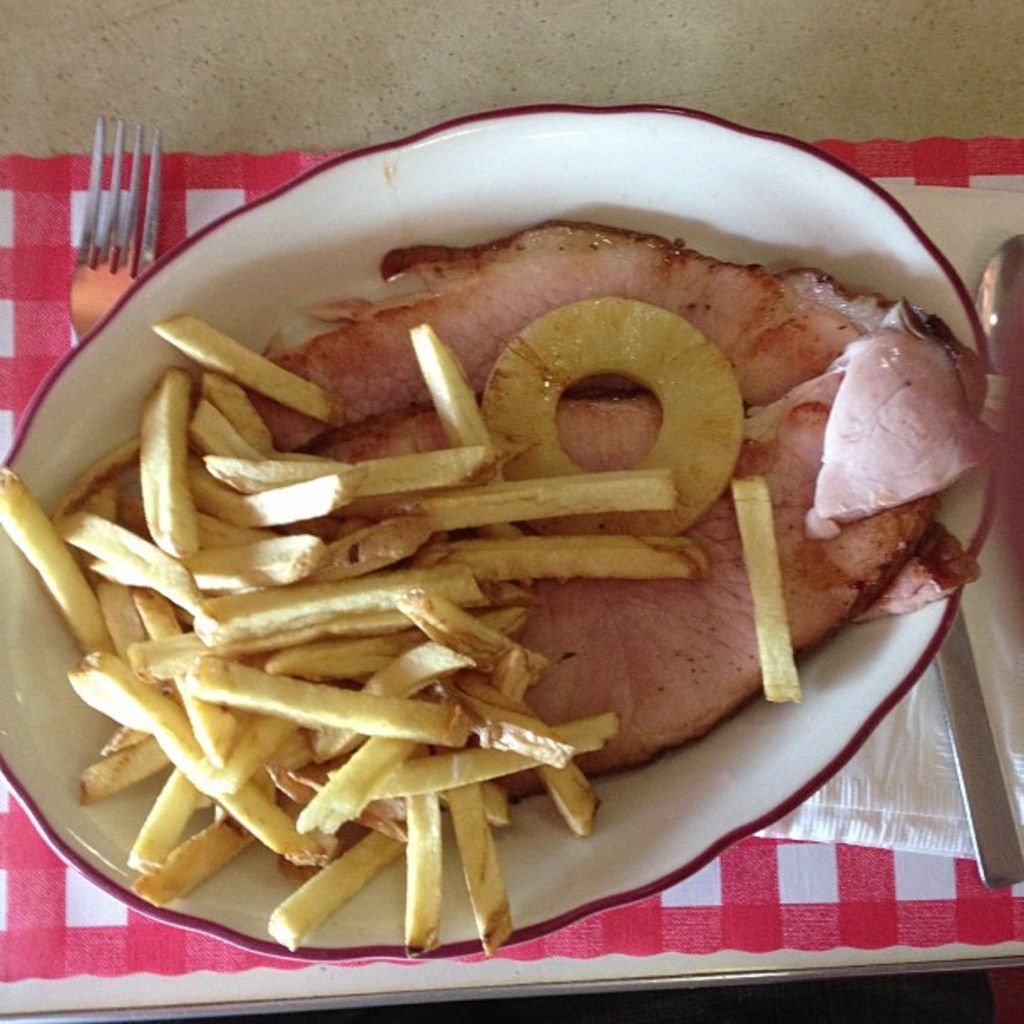French fries: (63, 271, 824, 913)
